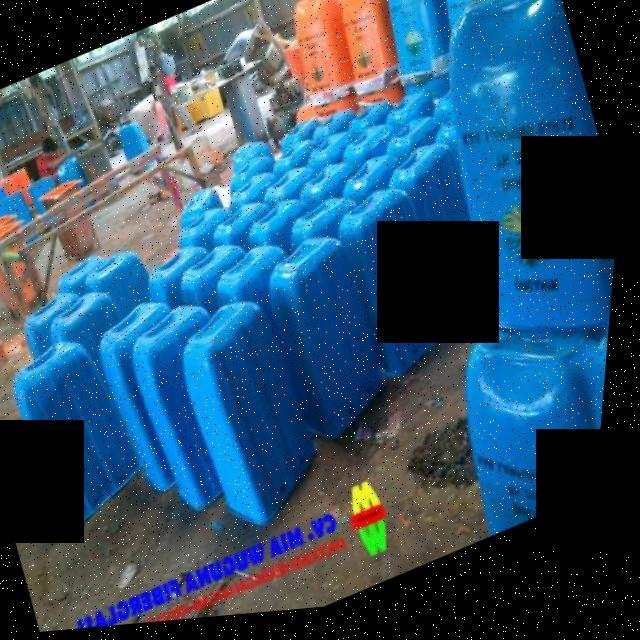bin: (377, 0, 639, 397), (160, 285, 354, 556), (435, 288, 619, 550), (0, 316, 178, 549)
